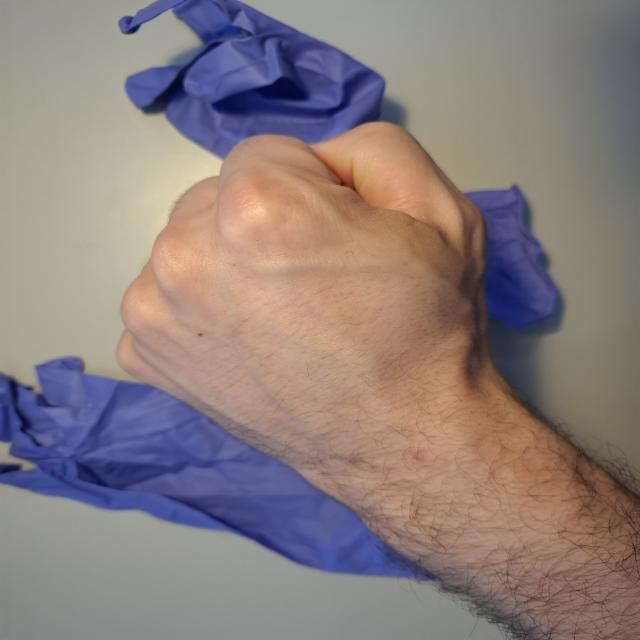glove_off: (112, 120, 542, 498)
